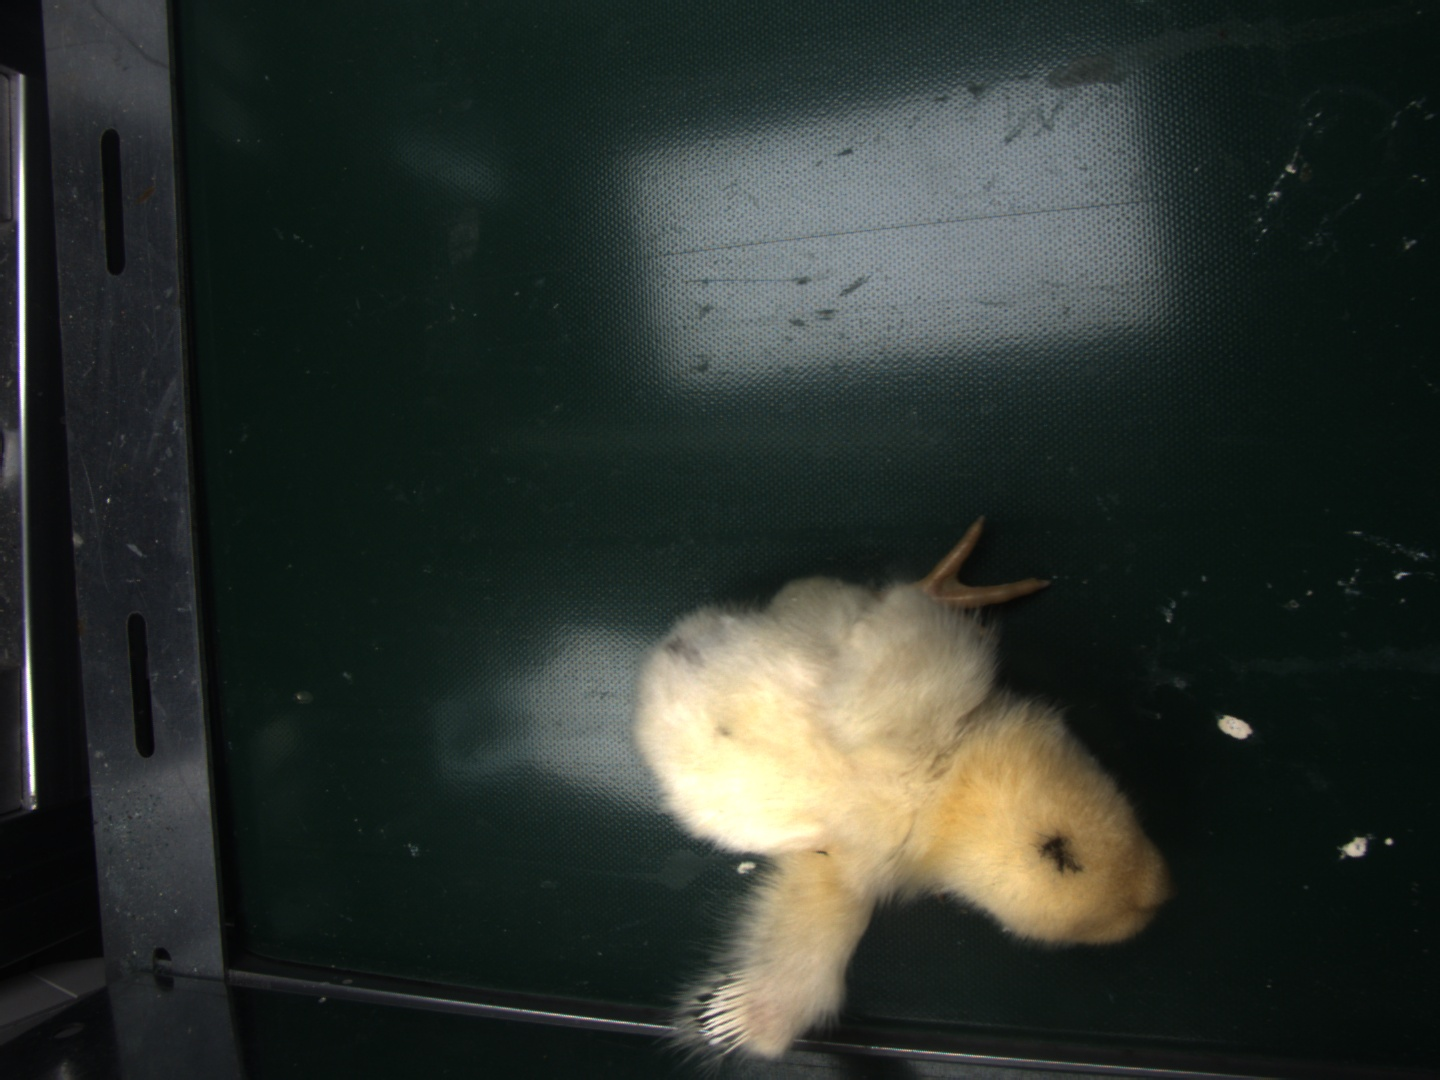male: (697, 980, 752, 1062)
